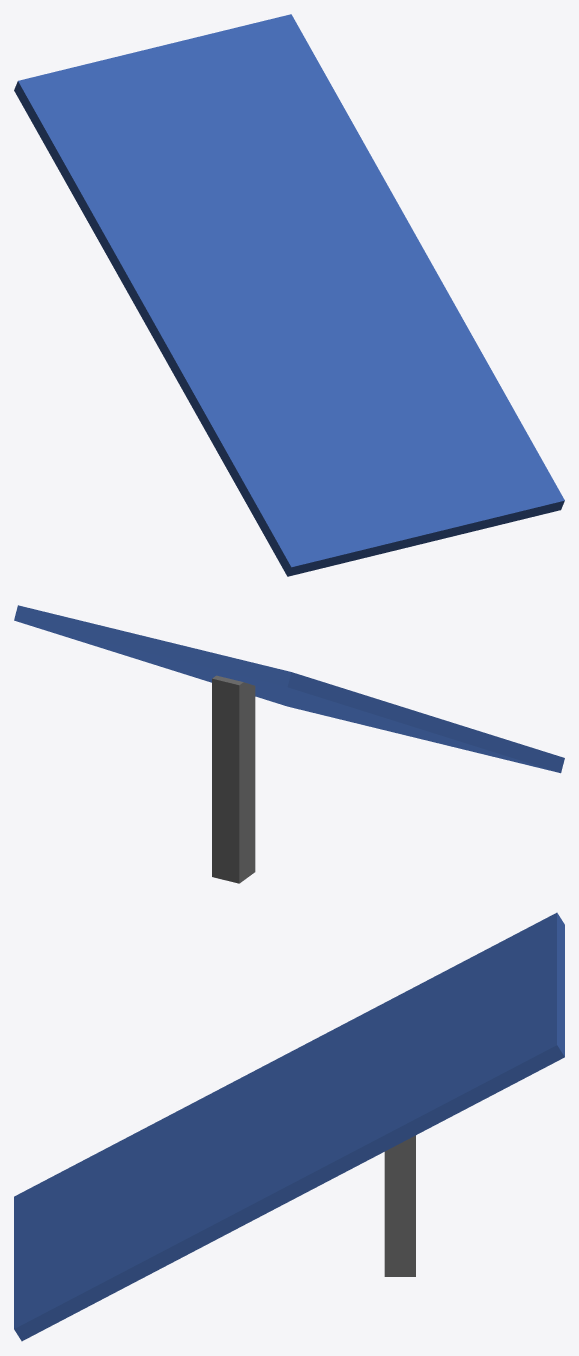
File: Placa1x2Prototipo.fbx
3 views of the same model, one above another, from view 1: azimuth 30°, elevation 25°; view 2: azimuth 150°, elevation 25°; view 3: azimuth 270°, elevation 25° (orthographic).
Visible parts, largest first — view 1: Cube; view 2: Cube; view 3: Cube.
Part boxes in pixels (x1,y1,x2,y2): Cube: (14, 14, 564, 576); Cube: (14, 605, 564, 883); Cube: (14, 912, 564, 1341).
Bounding box in the file's own units: 200 × 209 × 351.
